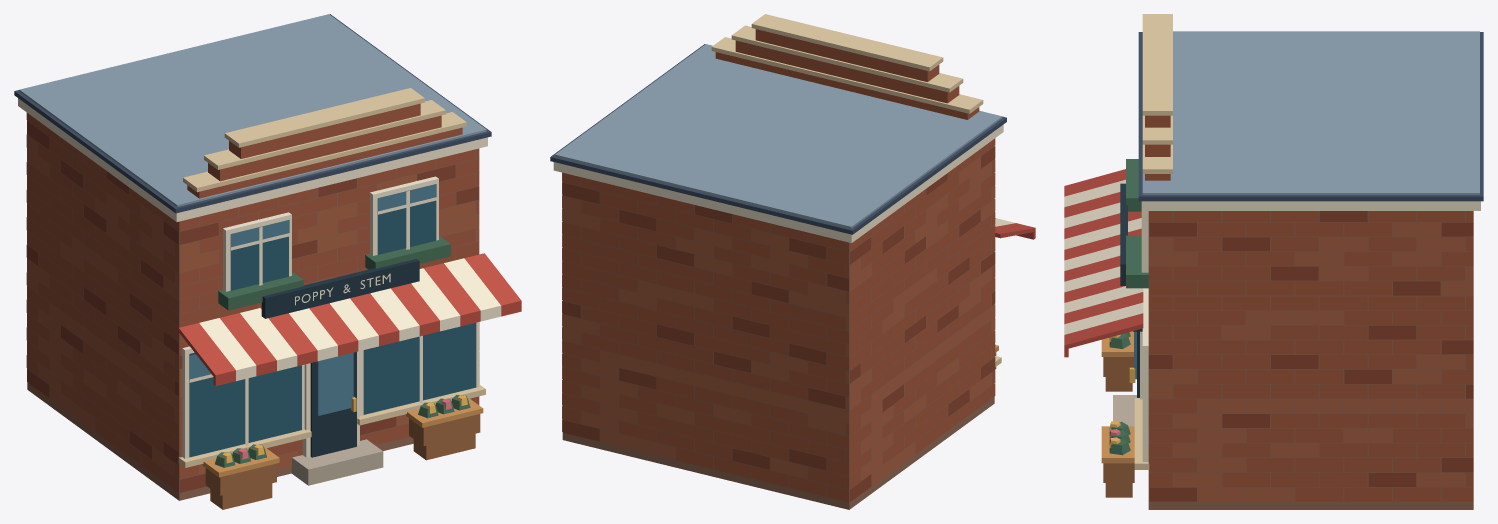
The model's file is poppy_and_stem.glb.
3 views of the same model, side by side, from view 1: azimuth 30°, elevation 25°; view 2: azimuth 150°, elevation 25°; view 3: azimuth 270°, elevation 25° (orthographic). The views are drawn at different scales.
Visible parts, largest first — view 1: poppy_and_stem; view 2: poppy_and_stem; view 3: poppy_and_stem.
Part boxes in pixels (x1,y1,x2,y2): poppy_and_stem: (14,14,521,509); poppy_and_stem: (550,14,1035,509); poppy_and_stem: (1064,14,1483,509).
Bounding box in the file's own units: 6.96 × 7.28 × 7.49.
